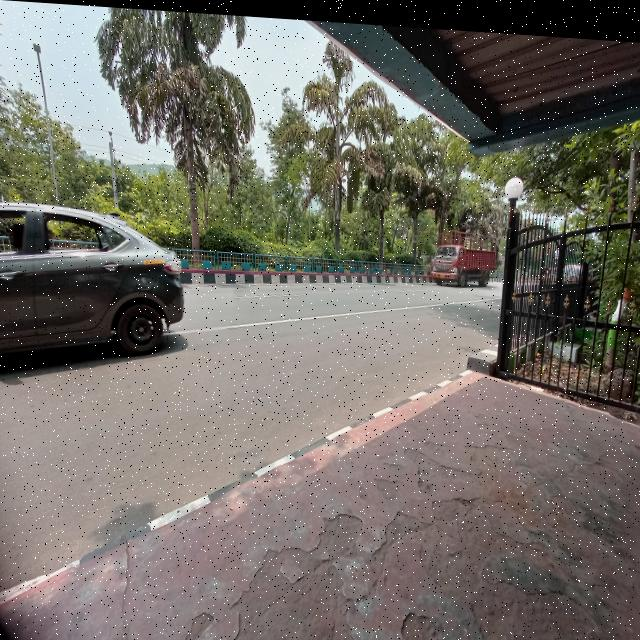car: (0, 172, 203, 393)
